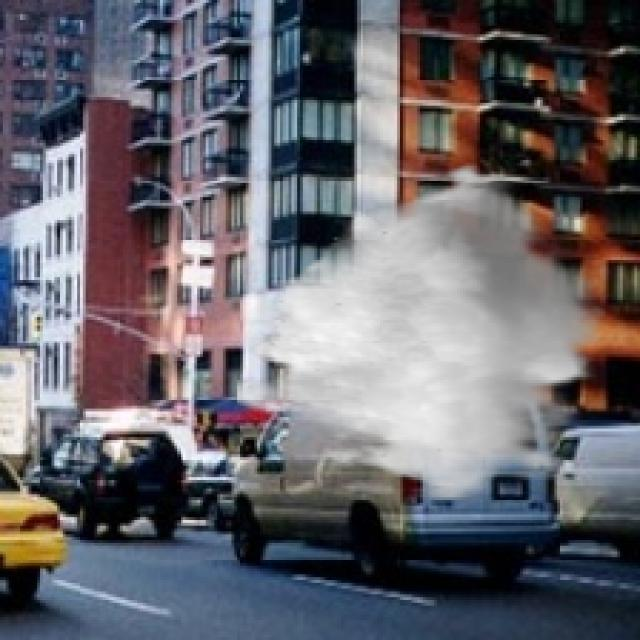smoke: (234, 157, 606, 500)
